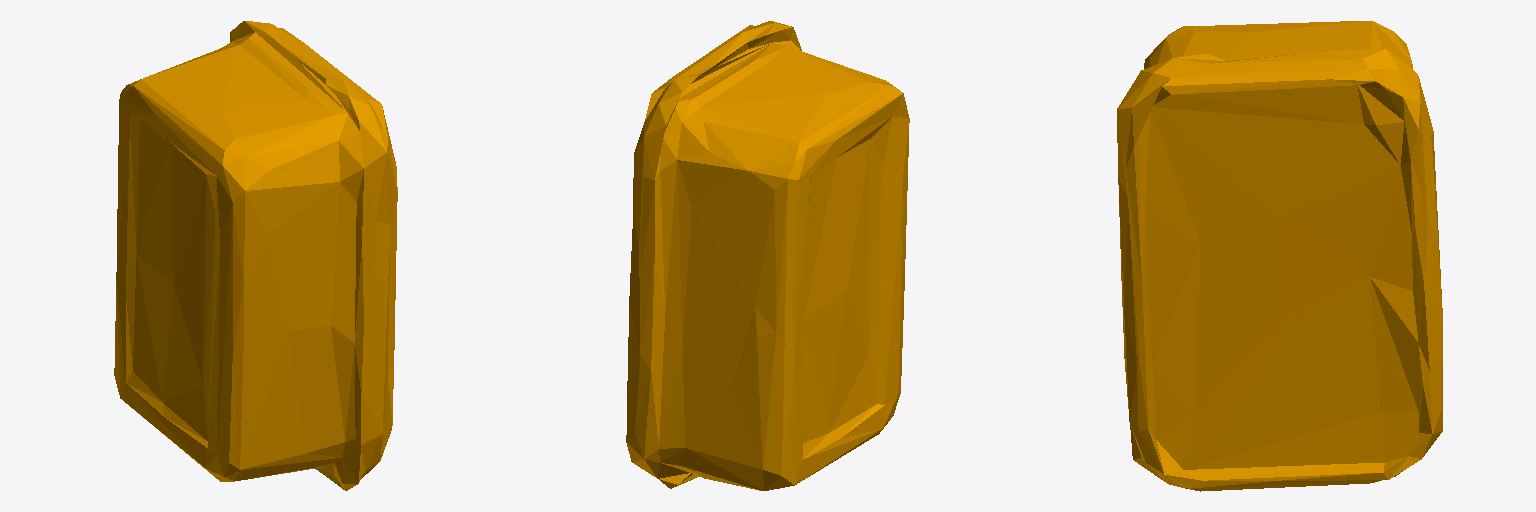
robot.urdf — Margarine_800_tex:
<?xml version="1.0"?>
<robot name="Margarine_800_tex">
  <link name="base_link">
    <contact>
      <lateral_friction value="1.0"/>
      <rolling_friction value="0.0"/>
      <contact_cfm value="0.0"/>
      <contact_erp value="1.0"/>
    </contact>
    <inertial>
      <mass value="0.0359122549215"/>
      <inertia ixx="1" ixy="0" ixz="0" iyy="1" iyz="0" izz="1"/>
    </inertial>
    <visual>
      <geometry>
        <mesh filename="Margarine_800_tex_visual.obj"/>
      </geometry>
    </visual>
    <collision>
      <geometry>
        <mesh filename="Margarine_800_tex_collision.obj"/>
      </geometry>
    </collision>
  </link>
</robot>

--- Render facts (derived) ---
Views: 3 orthographic renders of the robot side by side, from view 1: azimuth 30°, elevation 25°; view 2: azimuth 150°, elevation 25°; view 3: azimuth 270°, elevation 25°.
Robot: Margarine_800_tex — 1 links, 0 joints (none); root link base_link; default pose: every joint at zero.
Visible links, largest first — view 1: base_link; view 2: base_link; view 3: base_link.
Link boxes in pixels (<box>): base_link: <box>114,21,397,490</box>; base_link: <box>626,21,909,490</box>; base_link: <box>1117,21,1442,491</box>.
Size in the robot's own frame: 0.0271 by 0.0442 by 0.0649 metres.
1 mesh visuals loaded from 1 distinct referenced files (1 OBJ).